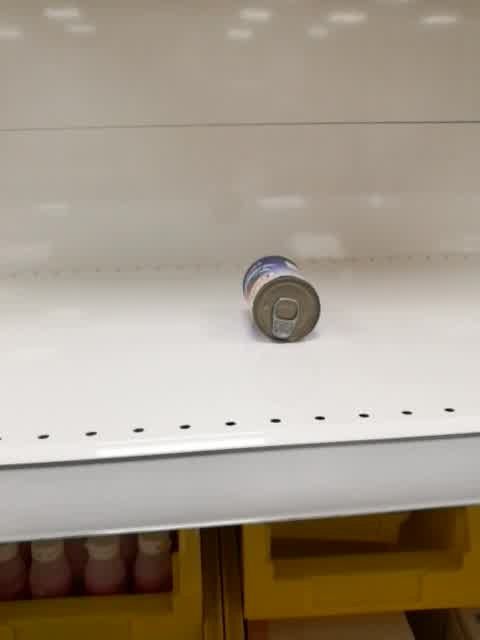sardine: (242, 255, 322, 344)
